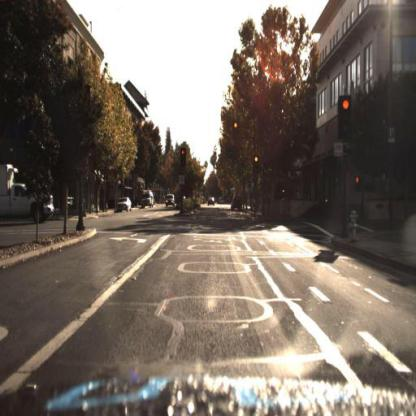car: (2, 161, 59, 227), (232, 191, 246, 210), (117, 199, 134, 214), (141, 193, 155, 209), (167, 194, 175, 208)
trafficLight: (231, 120, 239, 136)
trafficLight-Red: (340, 97, 354, 137)
trafficLight-RedLeft: (181, 148, 187, 164)
trafficLight-Yellow: (253, 151, 258, 170)
